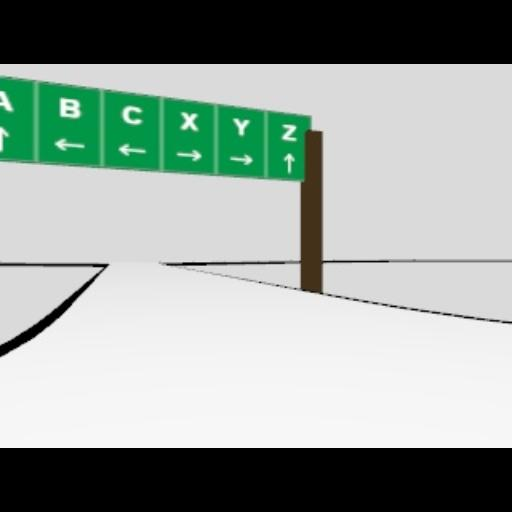A: (0, 90, 14, 112)
B: (58, 96, 80, 118)
C: (120, 104, 142, 124)
Left: (115, 143, 147, 157), (53, 138, 85, 150)
Right: (174, 148, 204, 162), (229, 152, 255, 164)
Straight: (0, 124, 8, 152), (284, 152, 294, 172)
X: (180, 110, 198, 130)
Y: (232, 116, 250, 136)
Z: (280, 123, 298, 141)
